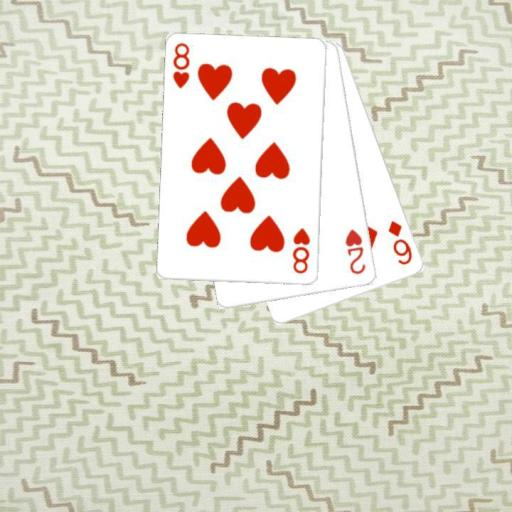2H: (342, 226, 368, 277)
6D: (385, 218, 415, 267)
8H: (290, 225, 312, 275), (170, 40, 192, 90)
